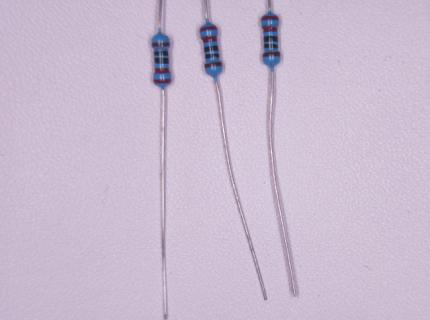Red band: (201, 36, 217, 43), (200, 26, 218, 32), (262, 26, 278, 32), (261, 16, 279, 21), (154, 68, 170, 73), (153, 79, 171, 83)
